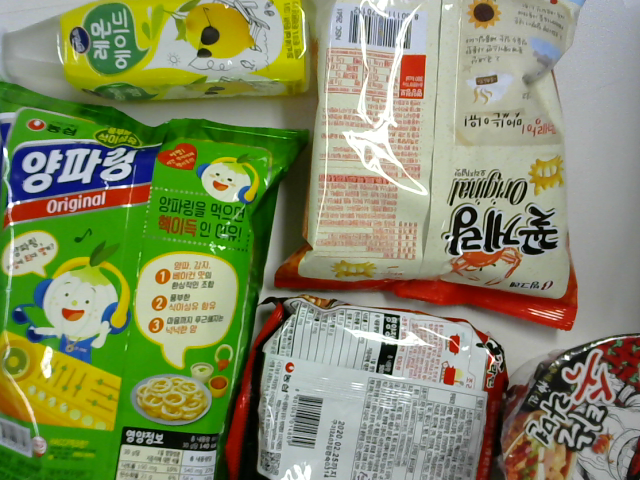Crabrang: (308, 1, 573, 334)
HeJangsock: (486, 331, 635, 480)
Oninon_Ring: (1, 114, 306, 479)
Sinramen: (254, 299, 503, 480)
Sunkist_Lemonaid_Pet: (5, 1, 318, 110)
